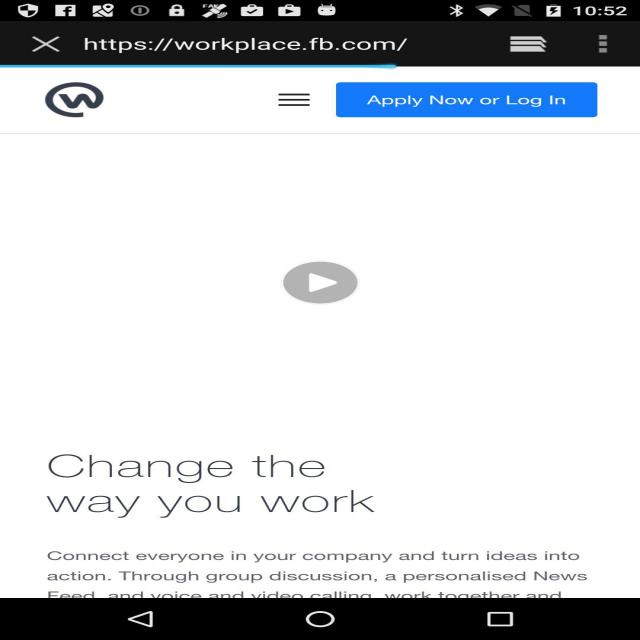button: (282, 72, 618, 126), (251, 246, 430, 326), (517, 22, 618, 64)
image: (45, 79, 158, 116)
text: (29, 542, 610, 609), (37, 449, 427, 522)
